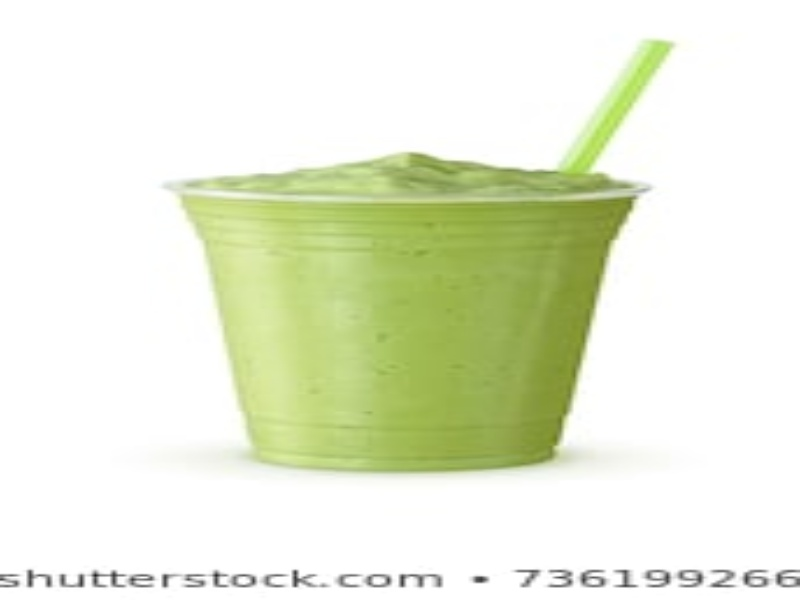plastic-cup: (157, 155, 651, 478)
straw: (561, 33, 674, 178)
